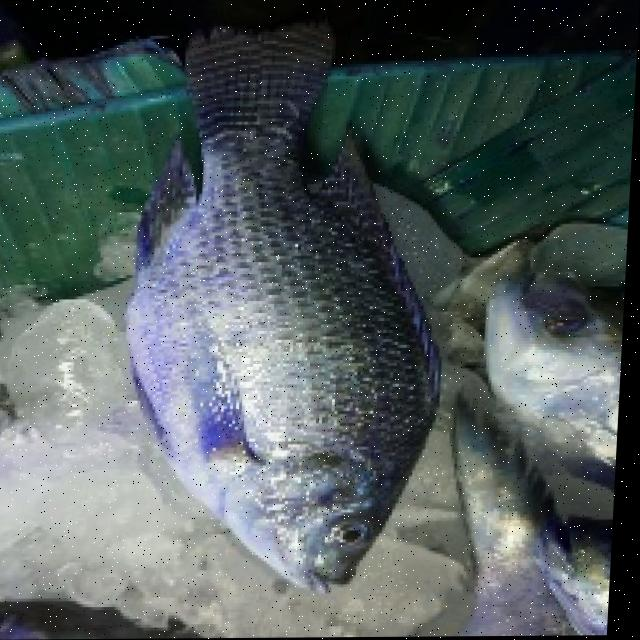Fresh: (116, 15, 466, 599)
